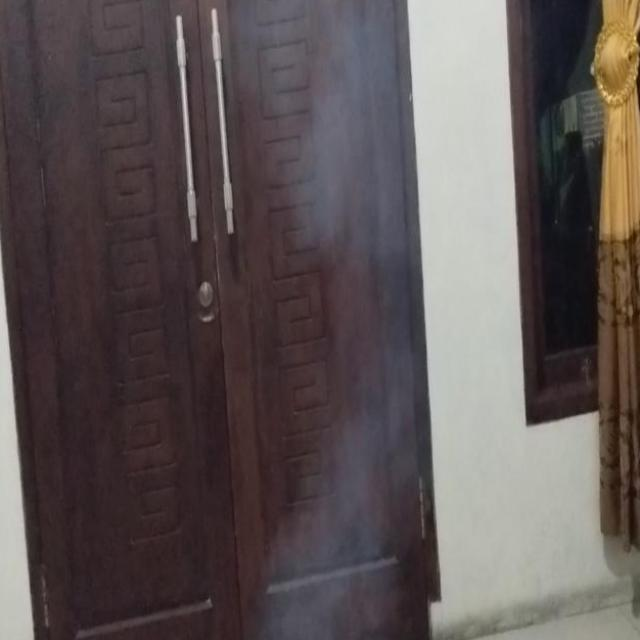fire: (282, 0, 399, 274), (277, 417, 420, 640)
